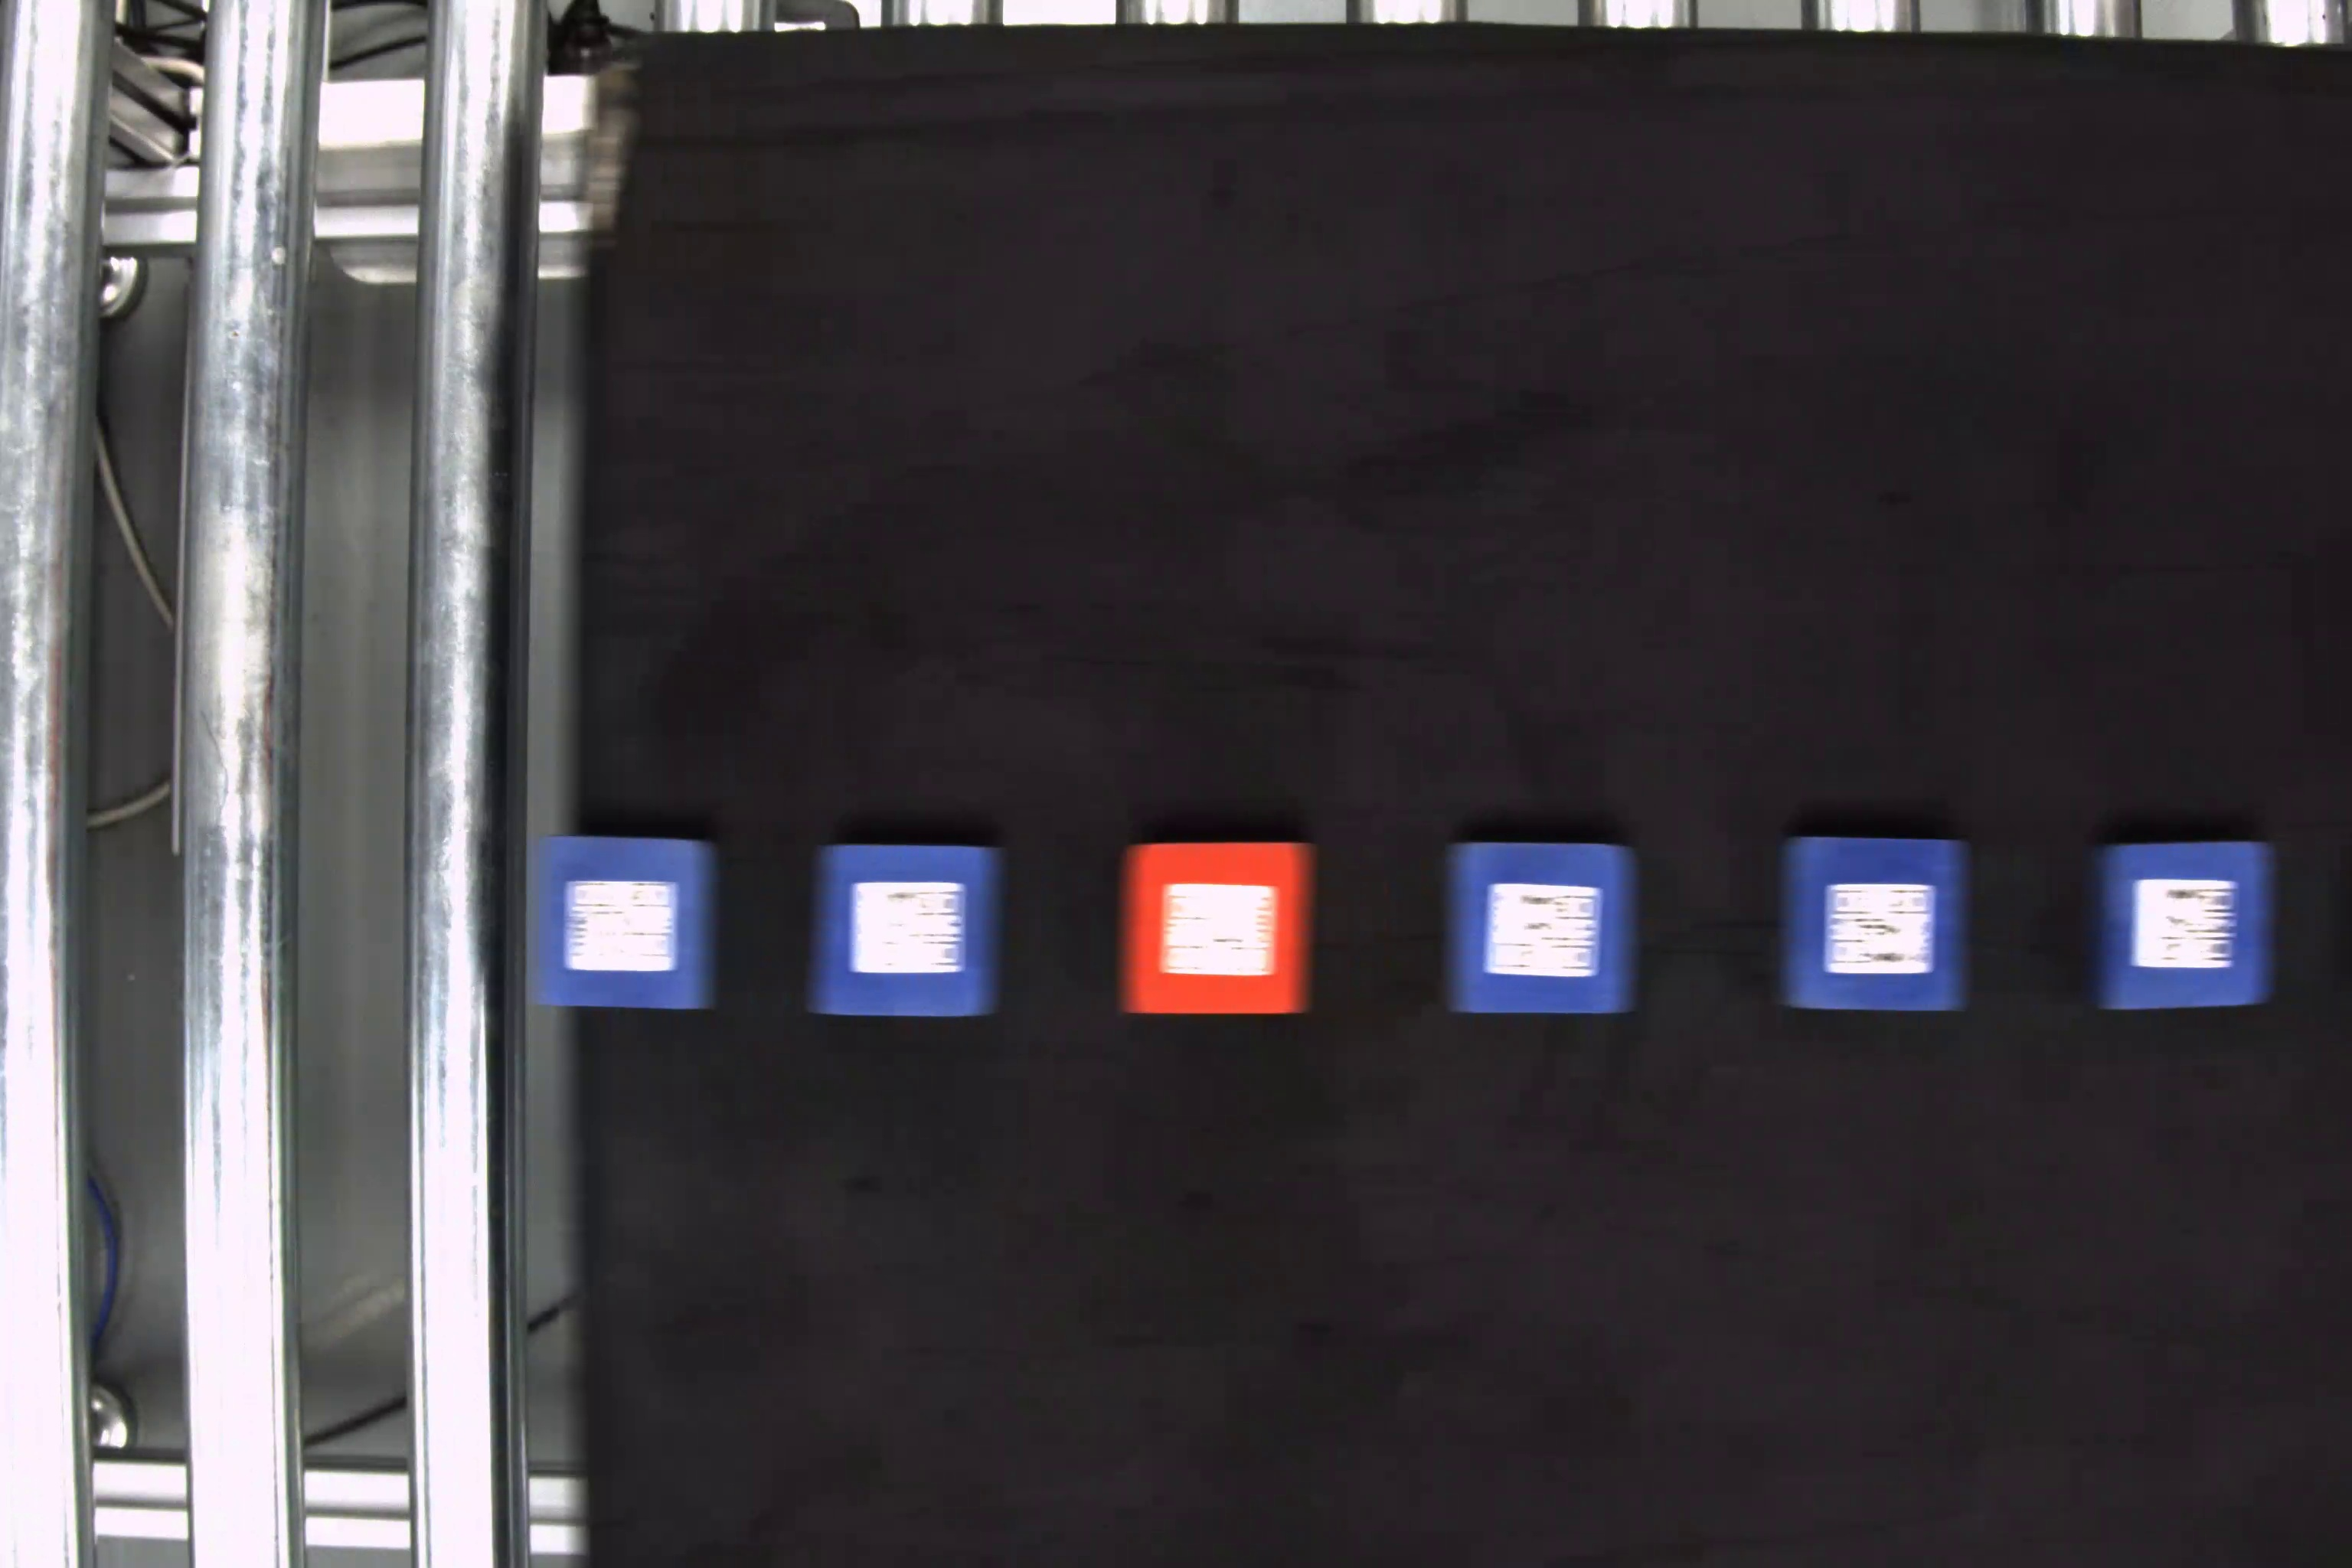wood: (1444, 835, 1641, 1018), (1118, 835, 1319, 1013), (817, 833, 1006, 1022), (1783, 833, 1977, 1015), (532, 831, 726, 1011), (2088, 843, 2278, 1011)
